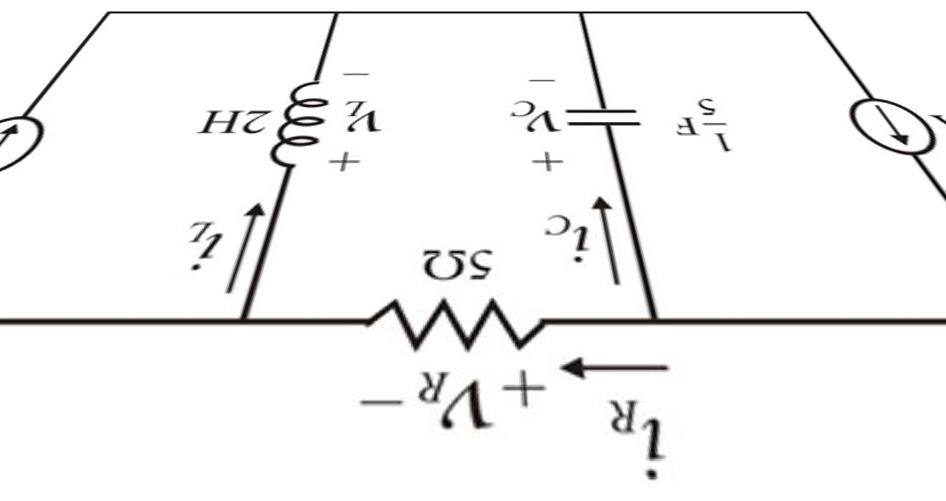inductor: (255, 56, 333, 186)
